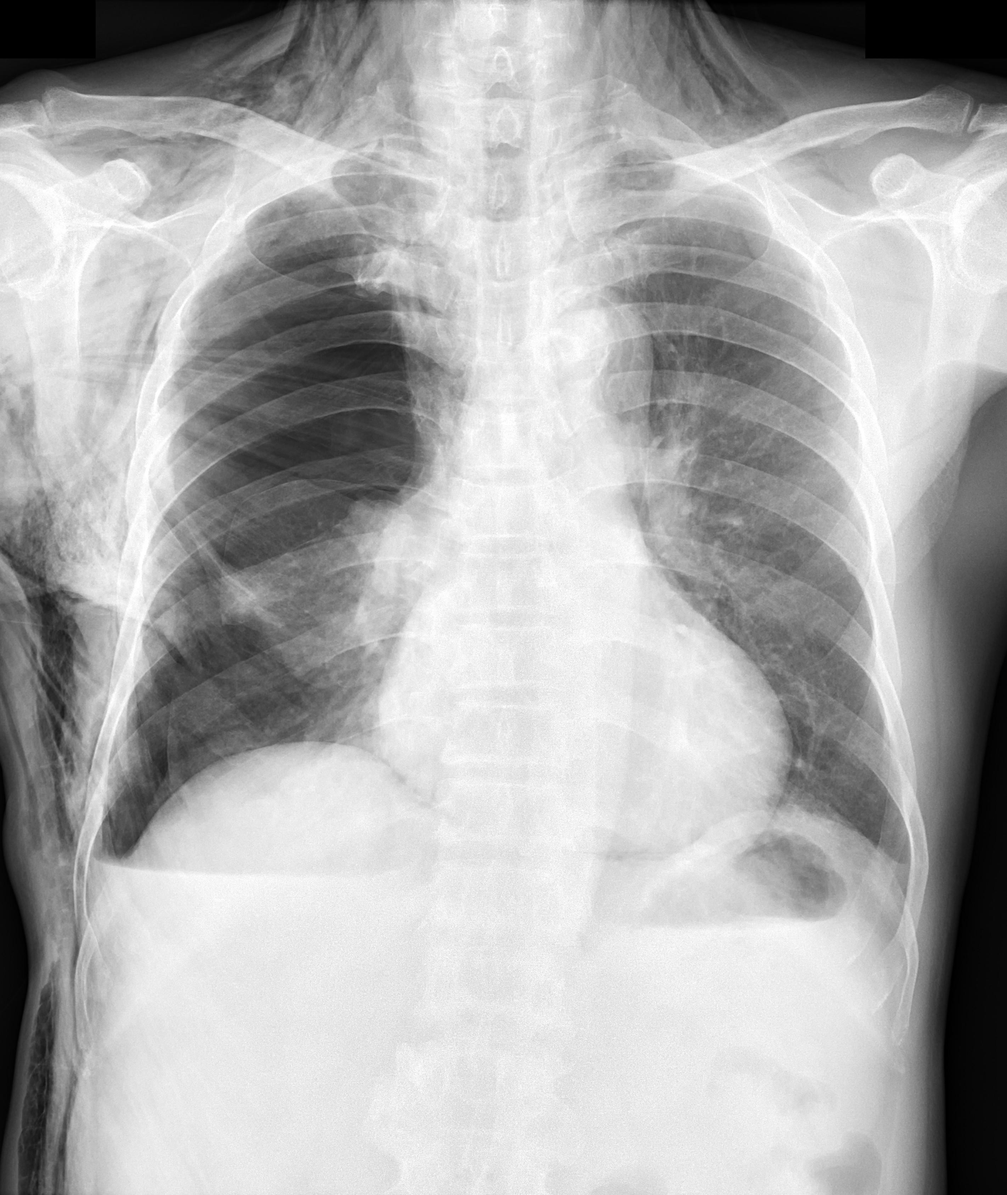Aortic enlargement: (520, 281, 656, 423)
Cardiomegaly: (369, 641, 795, 809)
Pulmonary fibrosis: (190, 524, 256, 600)
